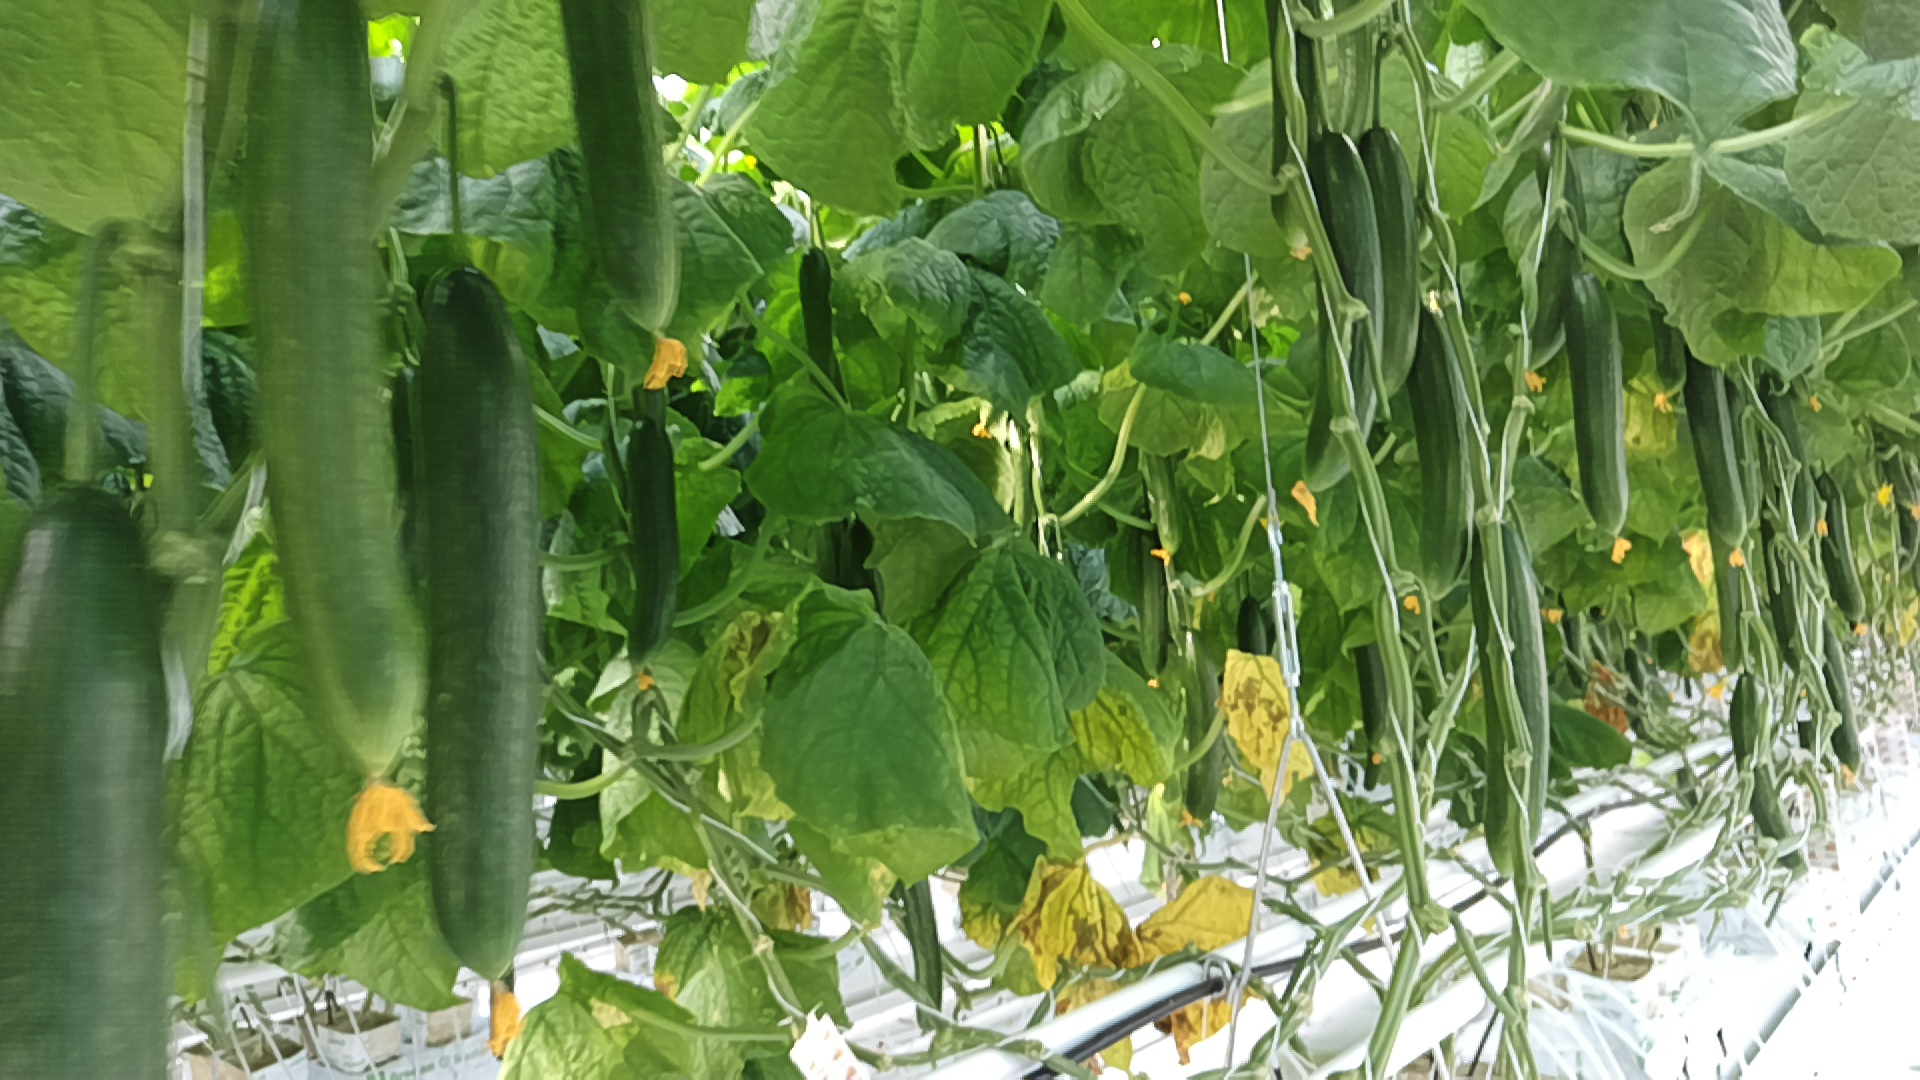gurka: (389, 257, 546, 992), (1557, 258, 1654, 546), (1675, 326, 1760, 576), (611, 397, 682, 671), (795, 208, 858, 392)
